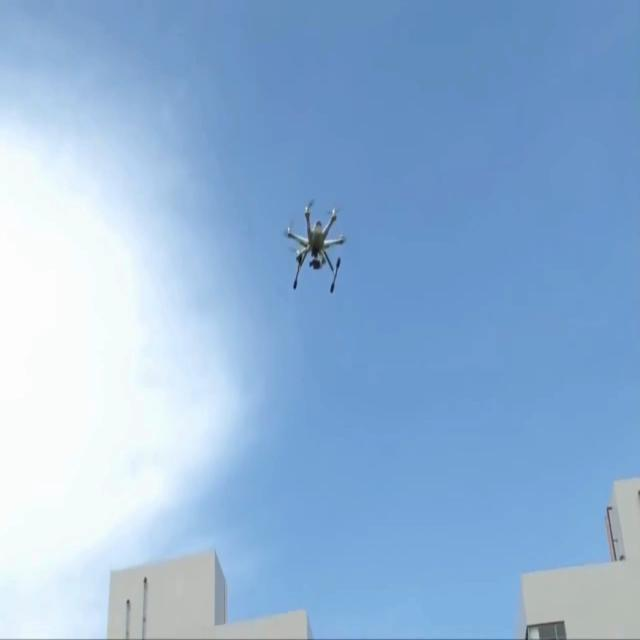drone: (284, 198, 346, 293)
